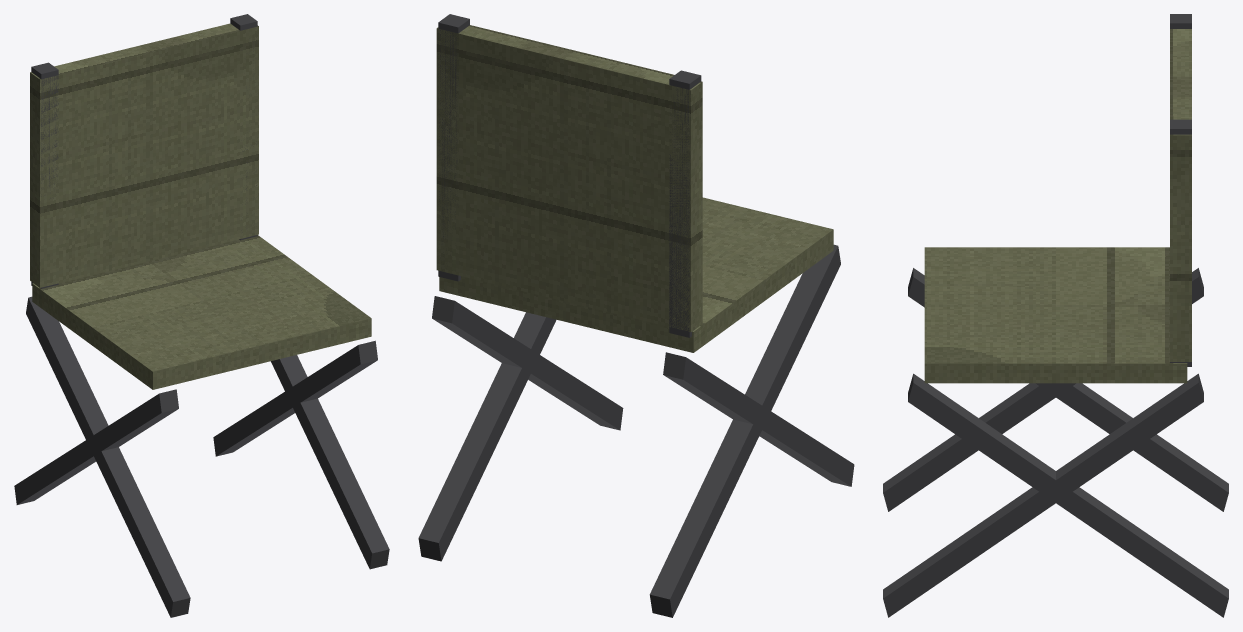
File: fb_office_chair.glb
The picture shows the model from 3 angles, left to right: view 1: azimuth 30°, elevation 25°; view 2: azimuth 150°, elevation 25°; view 3: azimuth 270°, elevation 25°; orthographic projection. The views are drawn at different scales.
Visible parts, largest first — view 1: fb_office_chair; view 2: fb_office_chair; view 3: fb_office_chair.
Boxes of the visible parts, bbox=[...] form: fb_office_chair: bbox=[14, 14, 389, 617]; fb_office_chair: bbox=[418, 14, 854, 617]; fb_office_chair: bbox=[883, 14, 1228, 617].
Size of what is drawn, in the model's own units: 0.44 by 0.8625 by 0.553.
Materials: 2 (1 with a texture image).
